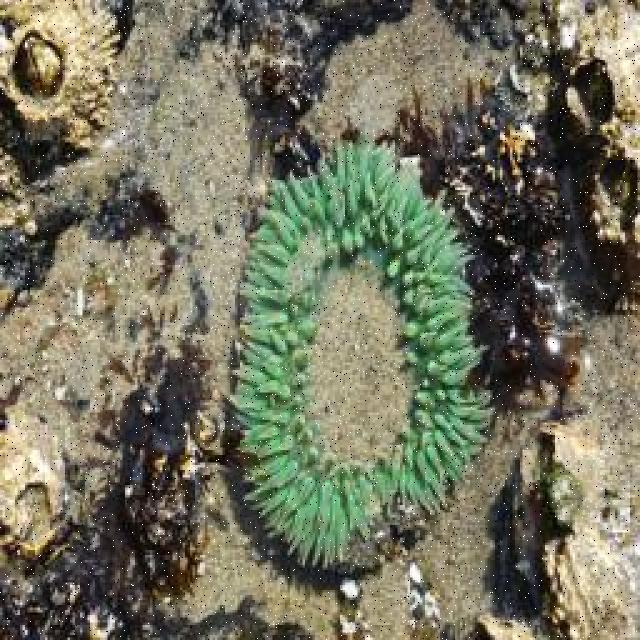aquatic plants: (0, 343, 312, 638), (399, 76, 597, 398), (200, 0, 415, 164), (0, 158, 179, 291)
reefs: (224, 130, 496, 570)
